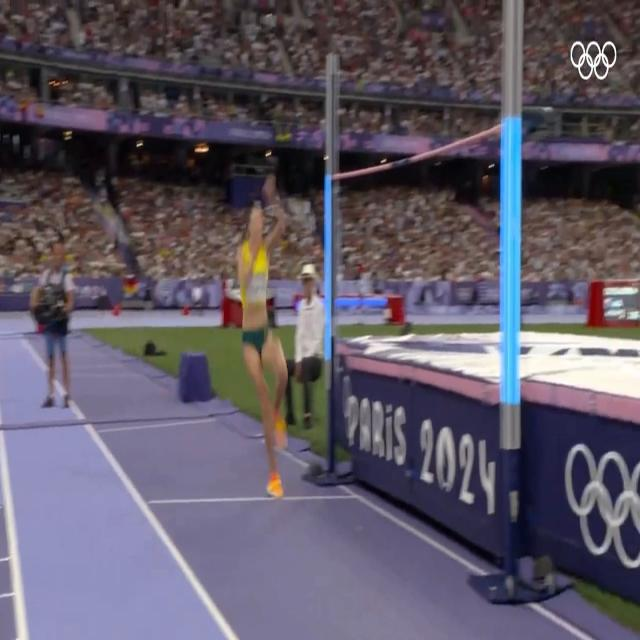jump: (238, 187, 290, 506)
